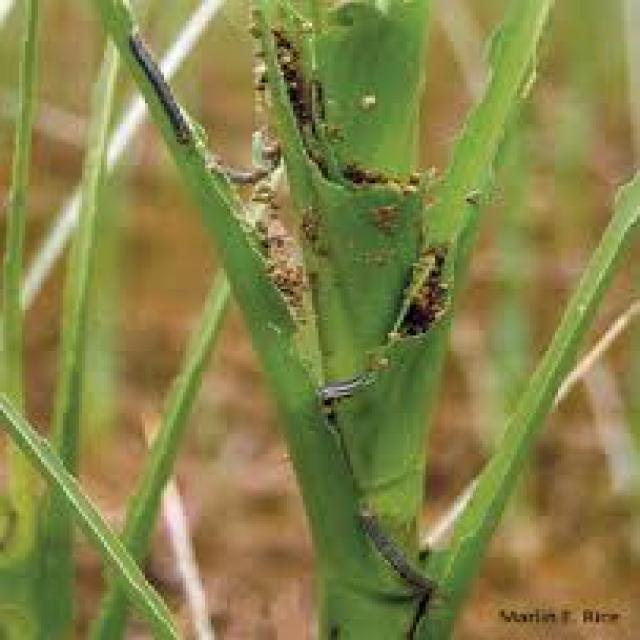Army Worm: (353, 500, 455, 602), (124, 27, 202, 146), (304, 359, 396, 410)
